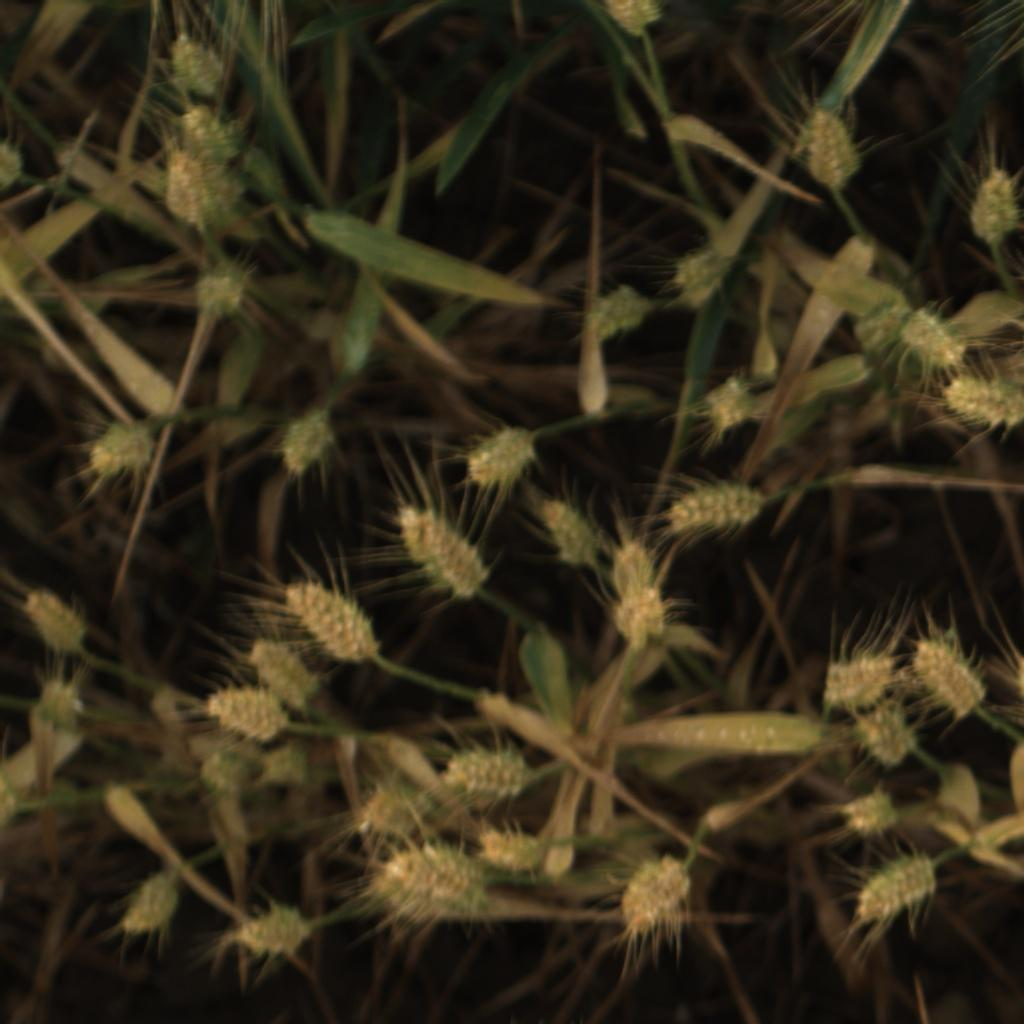0-0: (280, 566, 386, 664), (380, 837, 494, 928), (388, 502, 490, 601), (909, 628, 993, 729), (852, 849, 938, 930), (791, 106, 870, 190), (658, 481, 764, 541), (617, 853, 692, 937), (227, 894, 312, 966), (436, 735, 526, 803), (105, 870, 186, 945), (81, 407, 158, 485), (240, 628, 315, 706), (457, 422, 536, 493), (538, 491, 603, 577), (941, 370, 1024, 437), (607, 578, 674, 658), (896, 306, 972, 375), (272, 406, 342, 479), (21, 584, 91, 657), (157, 146, 220, 227), (163, 100, 250, 157), (819, 650, 901, 710), (201, 688, 292, 742), (849, 701, 918, 770), (966, 168, 1023, 250), (28, 663, 92, 733), (584, 282, 652, 345), (191, 264, 255, 329), (195, 740, 262, 802), (168, 31, 229, 98), (851, 297, 914, 359), (673, 247, 733, 312), (475, 822, 549, 874), (844, 780, 901, 843), (607, 535, 658, 605), (364, 783, 429, 835), (260, 736, 312, 796), (702, 374, 755, 431), (201, 164, 250, 216), (603, 0, 665, 39), (0, 136, 27, 194), (0, 774, 22, 834)
